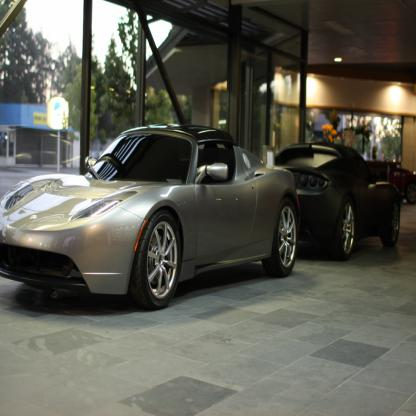Car: (0, 122, 302, 311), (275, 142, 400, 260)
